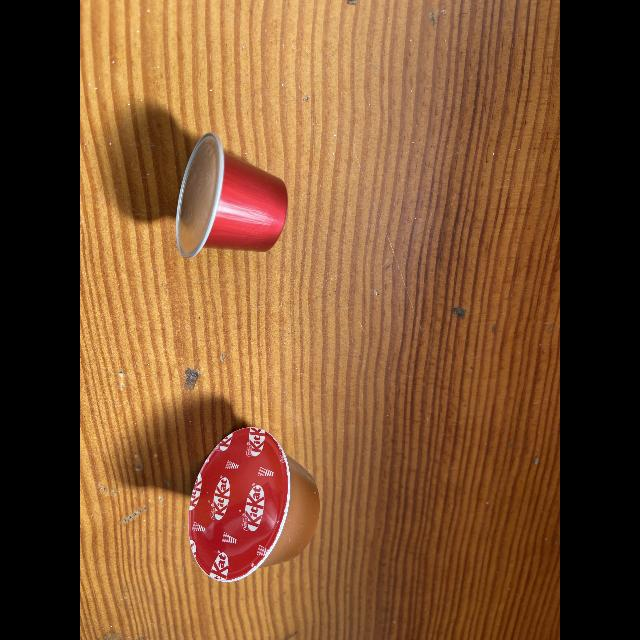intact_capsule: (175, 424, 335, 590), (164, 121, 306, 271)
